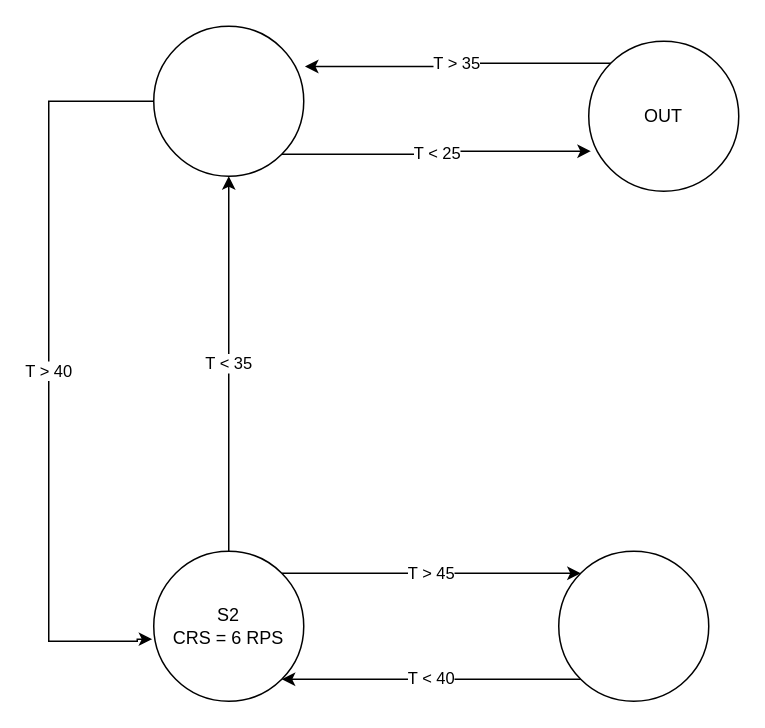
Some shapes in this 765 by 728 pixel diagram are drawn without their labels. The shapes that lost their labels are listed below. From the top down, each one's centre as x and y in pixels, then its label:
[228,100]: S1 CRS = 4 RPS
[633,625]: S3 CRS = 8 RPS
